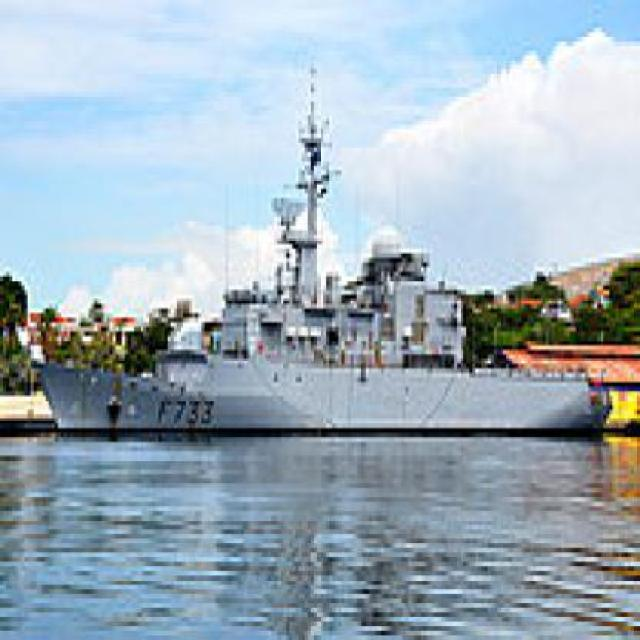warship2: (23, 79, 626, 439)
